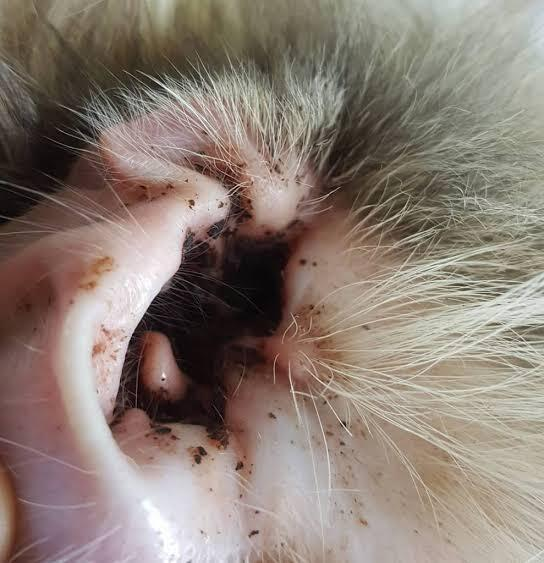tungau: (226, 229, 283, 334), (182, 234, 216, 326), (143, 390, 204, 425), (182, 332, 217, 379), (204, 390, 230, 444), (208, 218, 222, 240)
